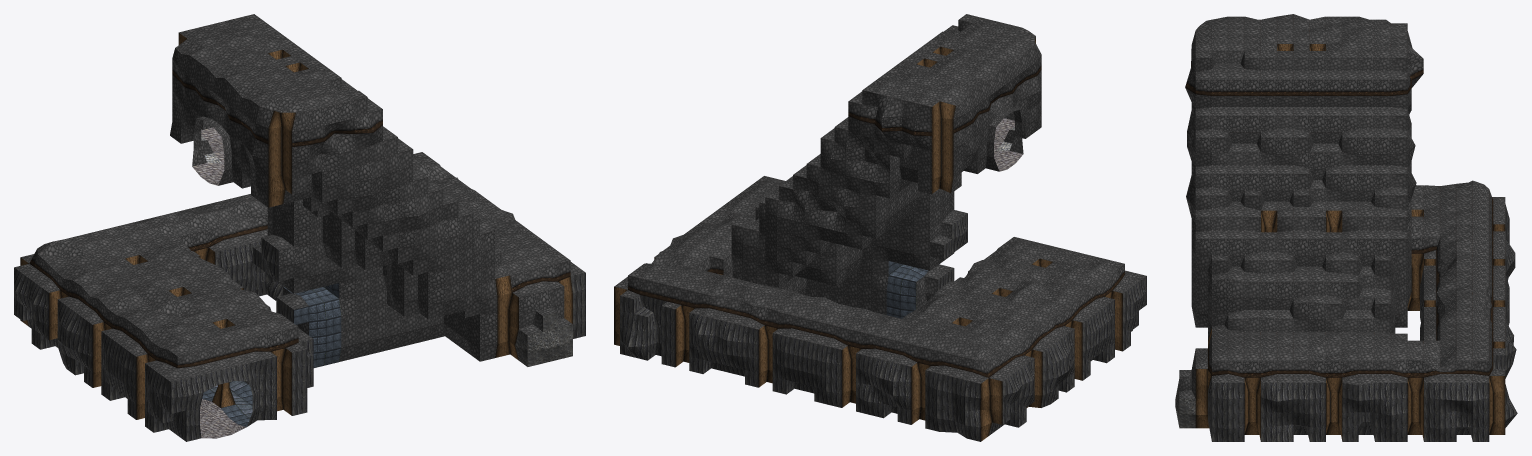
3 renders of one model, left to right at view 1: azimuth 30°, elevation 25°; view 2: azimuth 150°, elevation 25°; view 3: azimuth 270°, elevation 25°, orthographic. The views are drawn at different scales.
Parts seen in each view (by area): view 1: ThirdIntance; view 2: ThirdIntance; view 3: ThirdIntance.
Part boxes in pixels (x1,y1,x2,y2): ThirdIntance: [14, 14, 585, 441]; ThirdIntance: [614, 14, 1146, 441]; ThirdIntance: [1175, 14, 1517, 441].
Size of the model in its own units: 29.25 by 19.69 by 21.
